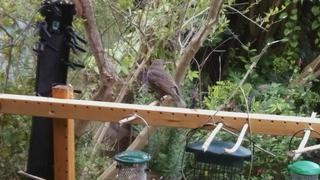starling: (147, 59, 187, 108)
